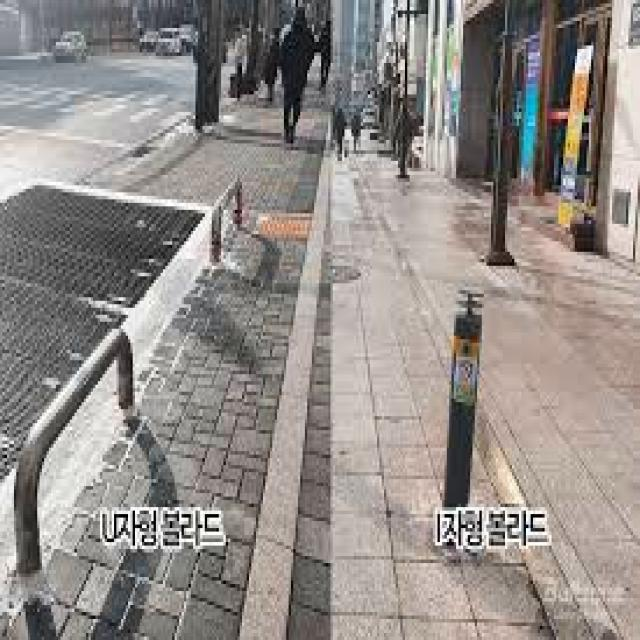bollard: (7, 318, 147, 597), (435, 278, 484, 507), (202, 163, 247, 268)
